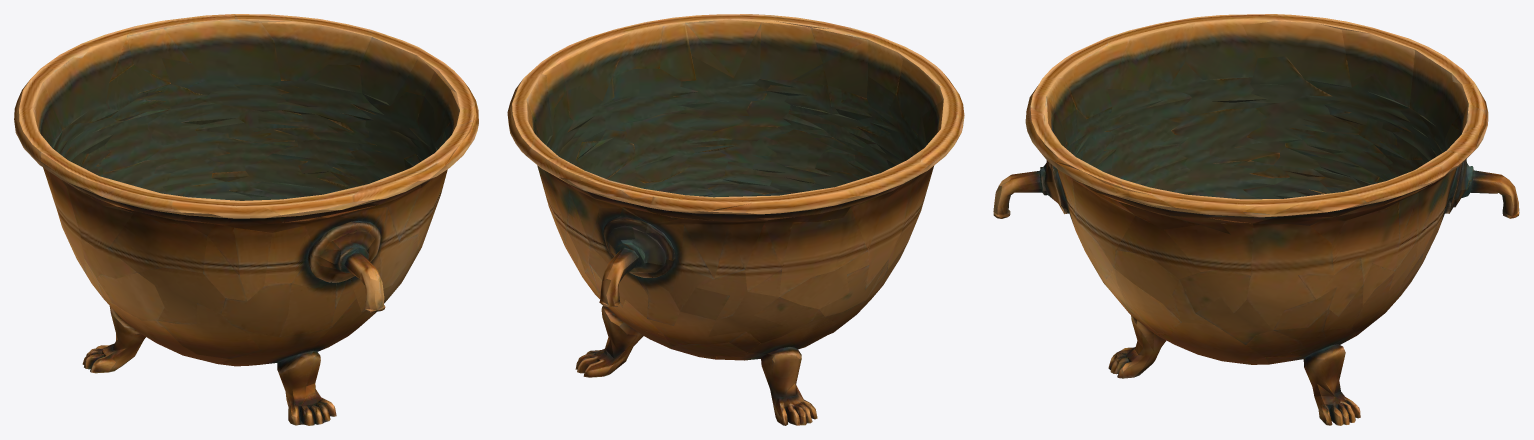
The model's file is clepsydra.glb.
3 views of the same model, side by side, from view 1: azimuth 30°, elevation 25°; view 2: azimuth 150°, elevation 25°; view 3: azimuth 270°, elevation 25° (orthographic).
Visible parts, largest first — view 1: clepsydra; view 2: clepsydra; view 3: clepsydra.
Boxes of the visible parts, left/top/right/bottom form: clepsydra: left=14, top=14, right=478, bottom=425; clepsydra: left=507, top=14, right=964, bottom=425; clepsydra: left=993, top=14, right=1519, bottom=425.
Bounding box in the file's own units: 0.4834 × 0.2986 × 0.5501.
1 material, 1 textured.
